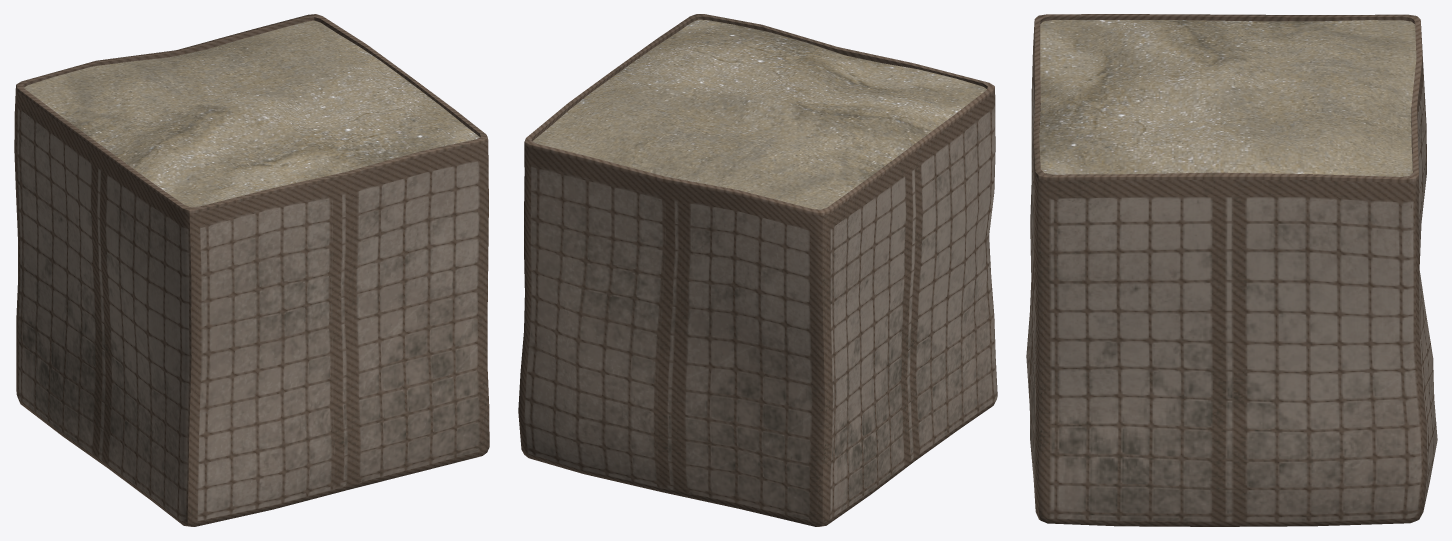
The model's file is PrpHescoA1.fbx.
The picture shows the model from 3 angles, left to right: view 1: azimuth 30°, elevation 25°; view 2: azimuth 150°, elevation 25°; view 3: azimuth 270°, elevation 25°; orthographic projection. The views are drawn at different scales.
Visible parts, largest first — view 1: PrpHescoA1; view 2: PrpHescoA1; view 3: PrpHescoA1.
Boxes of the visible parts, left/top/right/bottom form: PrpHescoA1: left=14, top=14, right=489, bottom=526; PrpHescoA1: left=518, top=14, right=997, bottom=526; PrpHescoA1: left=1026, top=14, right=1437, bottom=526.
Bounding box in the file's own units: 105 × 105 × 107.
